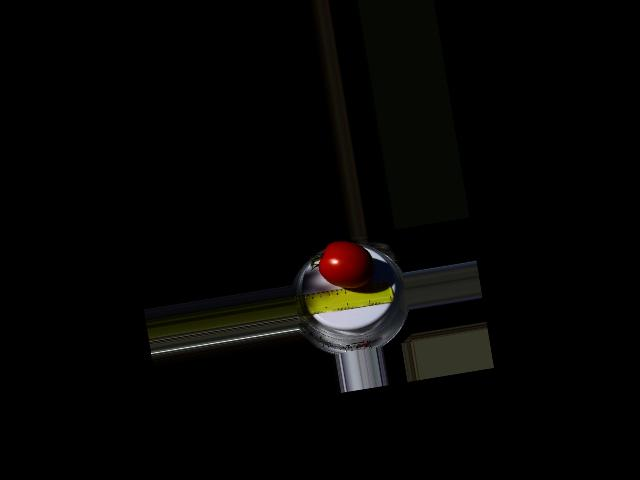tomato: (314, 235, 376, 294)
